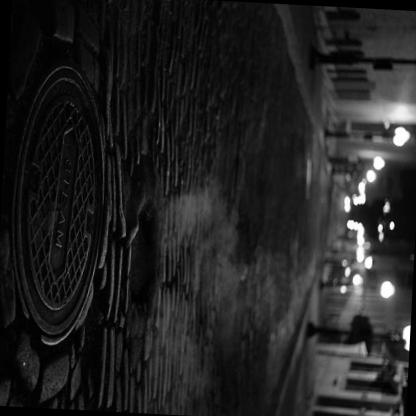manholes: (0, 27, 132, 369)
